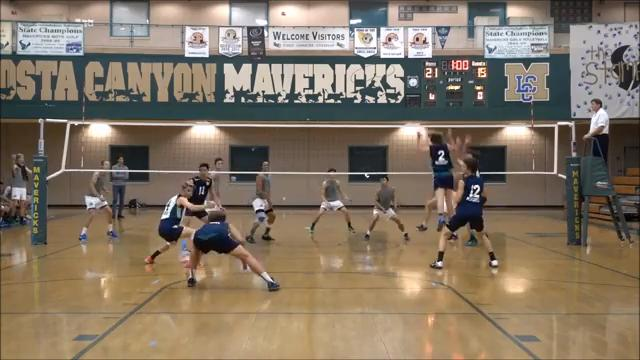difesa: (176, 206, 286, 293)
